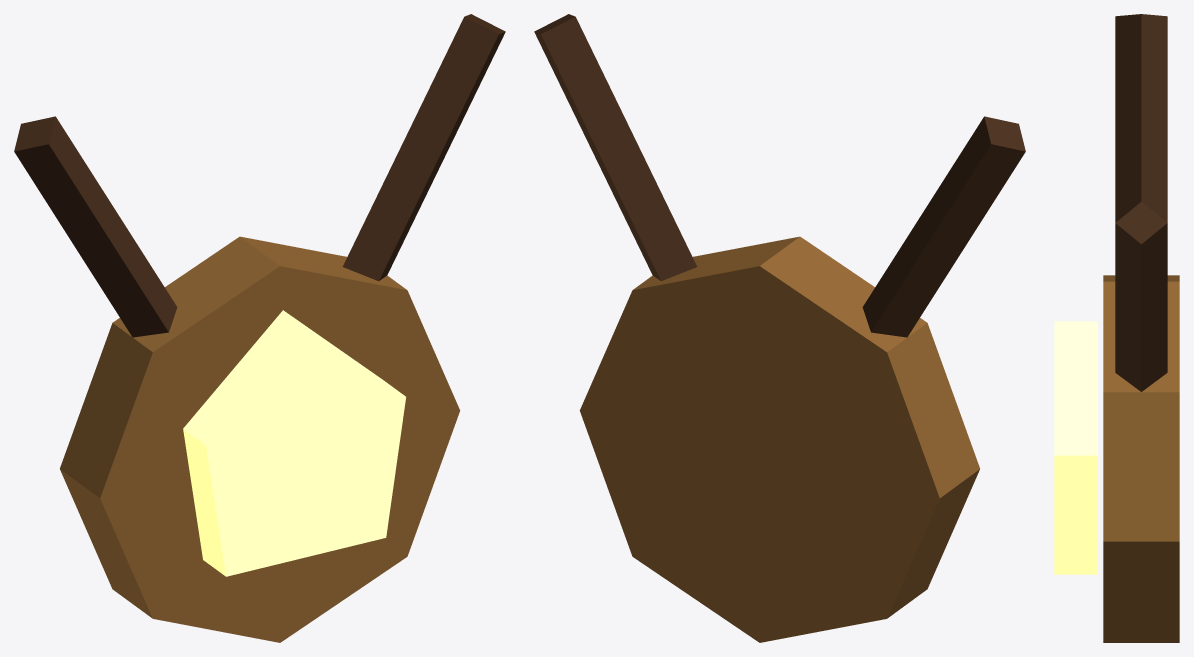
The model's file is lamplighter_seal.glb.
The picture shows the model from 3 angles, left to right: view 1: azimuth 30°, elevation 25°; view 2: azimuth 150°, elevation 25°; view 3: azimuth 270°, elevation 25°; orthographic projection. The views are drawn at different scales.
Visible parts, largest first — view 1: lamplighter_seal; view 2: lamplighter_seal; view 3: lamplighter_seal.
Boxes of the visible parts, x1,y1,x2,y2 form: lamplighter_seal: (14,14,505,642); lamplighter_seal: (534,14,1025,642); lamplighter_seal: (1054,14,1179,642).
Bounding box in the file's own units: 0.2458 × 0.2683 × 0.0575.
